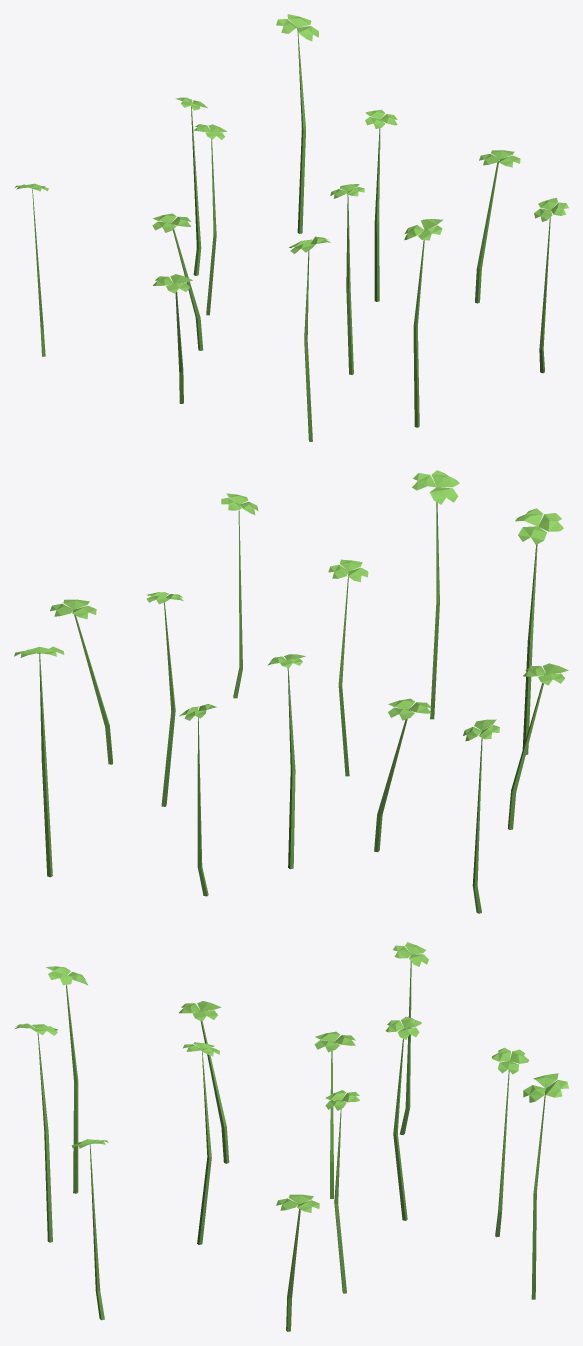
The model's file is clover.glb.
3 views of the same model, one above another, from view 1: azimuth 30°, elevation 25°; view 2: azimuth 150°, elevation 25°; view 3: azimuth 270°, elevation 25° (orthographic). The views are drawn at different scales.
Parts seen in each view (by area): view 1: Clover_1_2_A; view 2: Clover_1_2_A; view 3: Clover_1_2_A.
Boxes of the visible parts, x1=… form: Clover_1_2_A: x1=15, y1=14, x2=568, y2=441; Clover_1_2_A: x1=14, y1=470, x2=568, y2=913; Clover_1_2_A: x1=15, y1=942, x2=568, y2=1331.
Size of the model in its own units: 0.3384 by 0.15 by 0.3426.
Materials: 1 (1 with a texture image).
